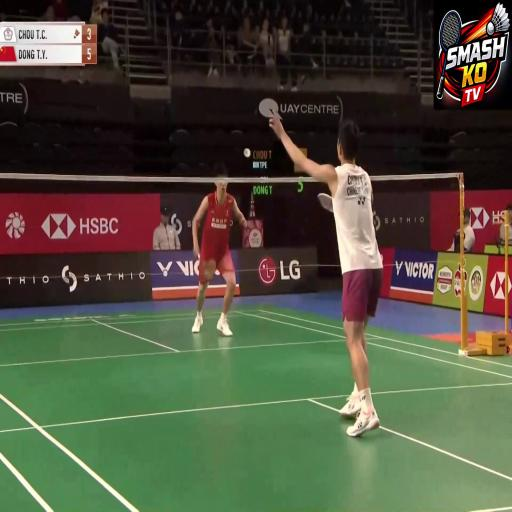player: (321, 115, 387, 457), (196, 145, 246, 363)
